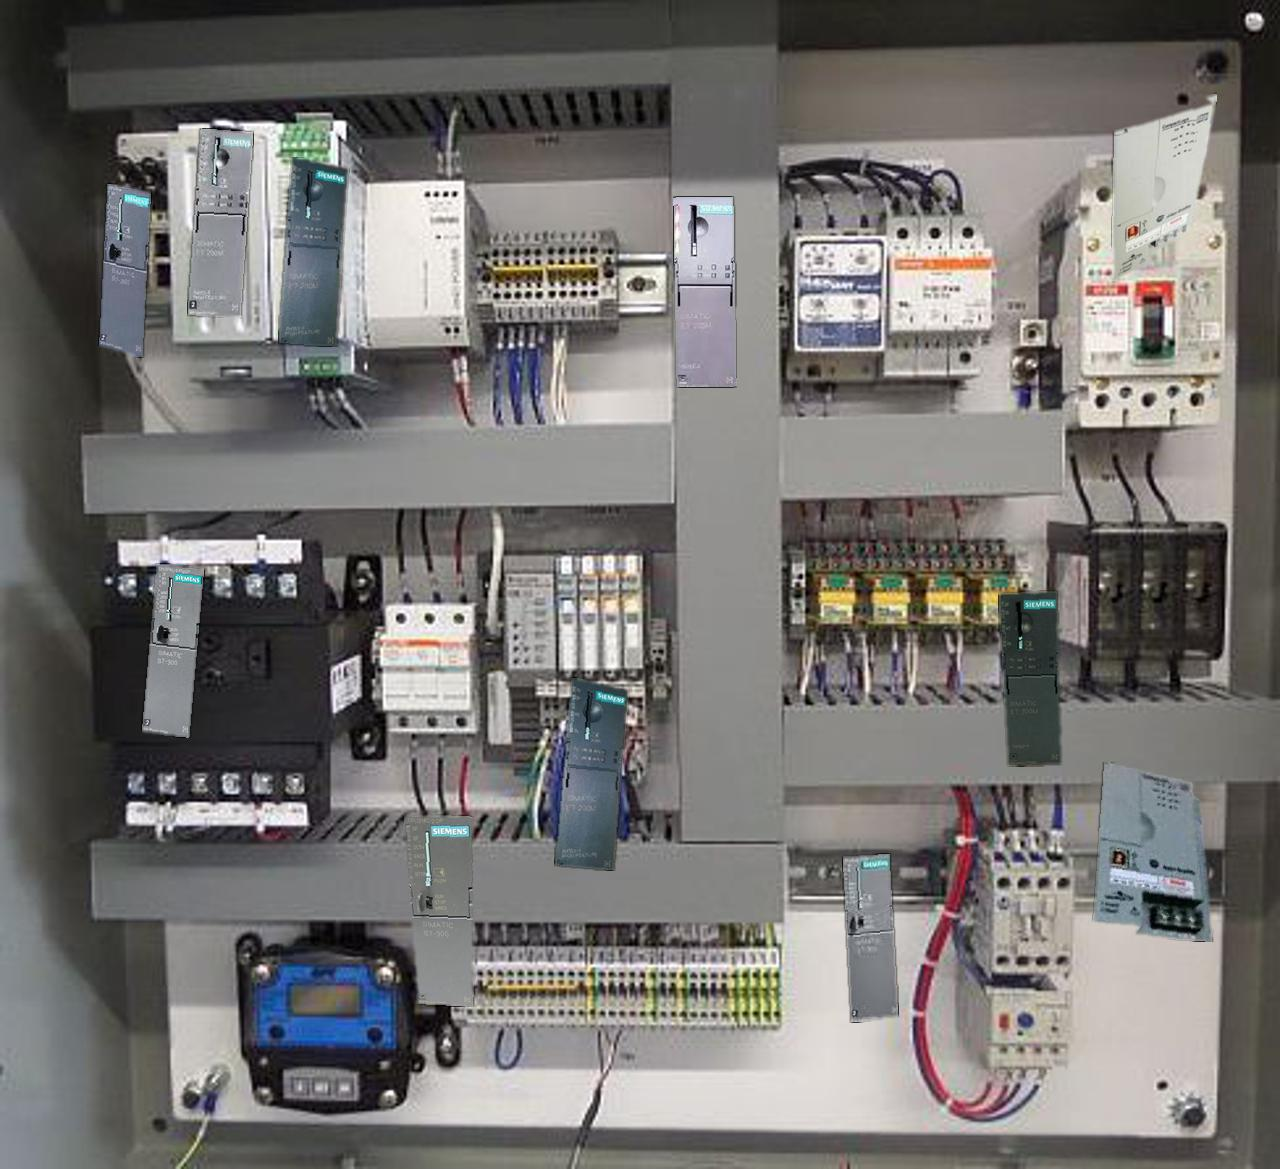AllenBradley: (1094, 762, 1211, 941), (1113, 94, 1216, 280)
Siemens: (404, 817, 473, 1005), (142, 563, 203, 737), (843, 854, 896, 1021), (99, 184, 151, 356)
